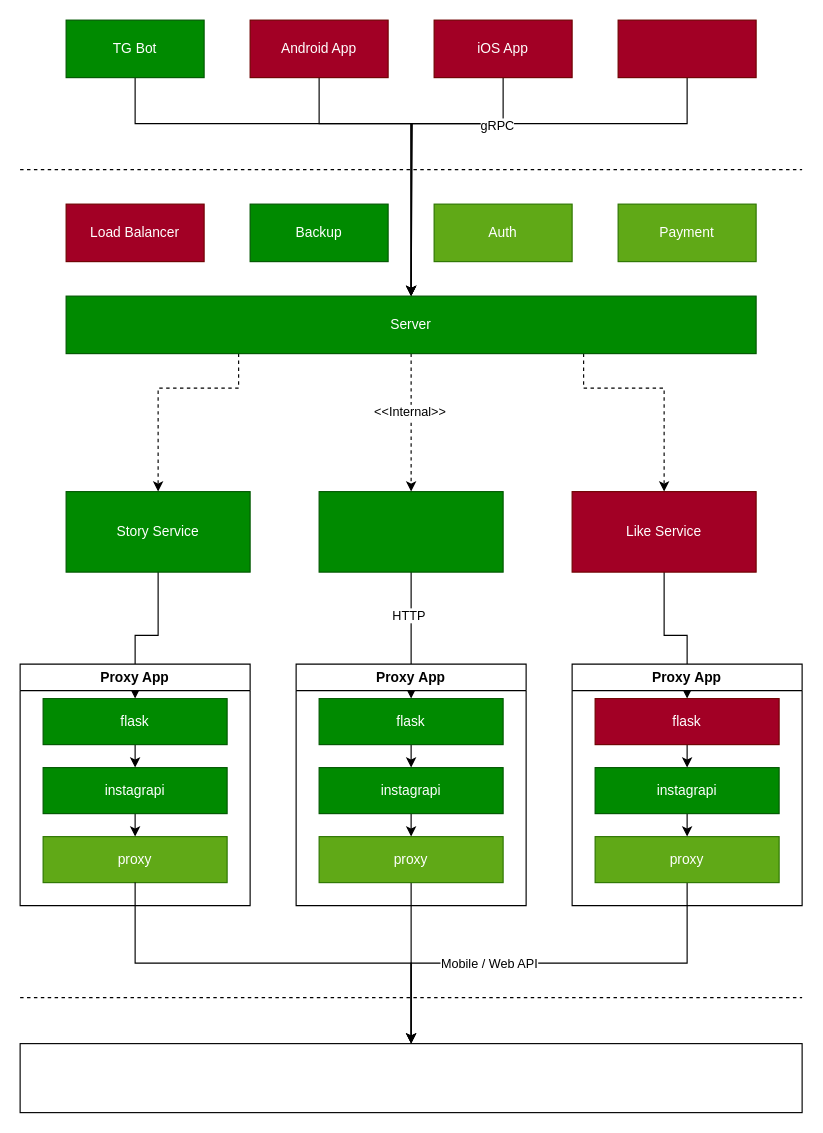
The diagram is 823 pixels wide and 1133 high, and some of its shapes have lost their labels. The shapes that lost their labels are listed below. From the top down, each one's centre as x and y in pixels, then its label:
At point (686, 48): "Web App".
At point (410, 531): "Follower Service".
At point (410, 1077): "Instagram".
